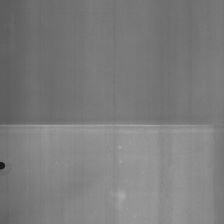welding_line: (0, 116, 224, 136), (0, 153, 8, 174)
